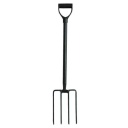fork: (36, 2, 100, 128)
